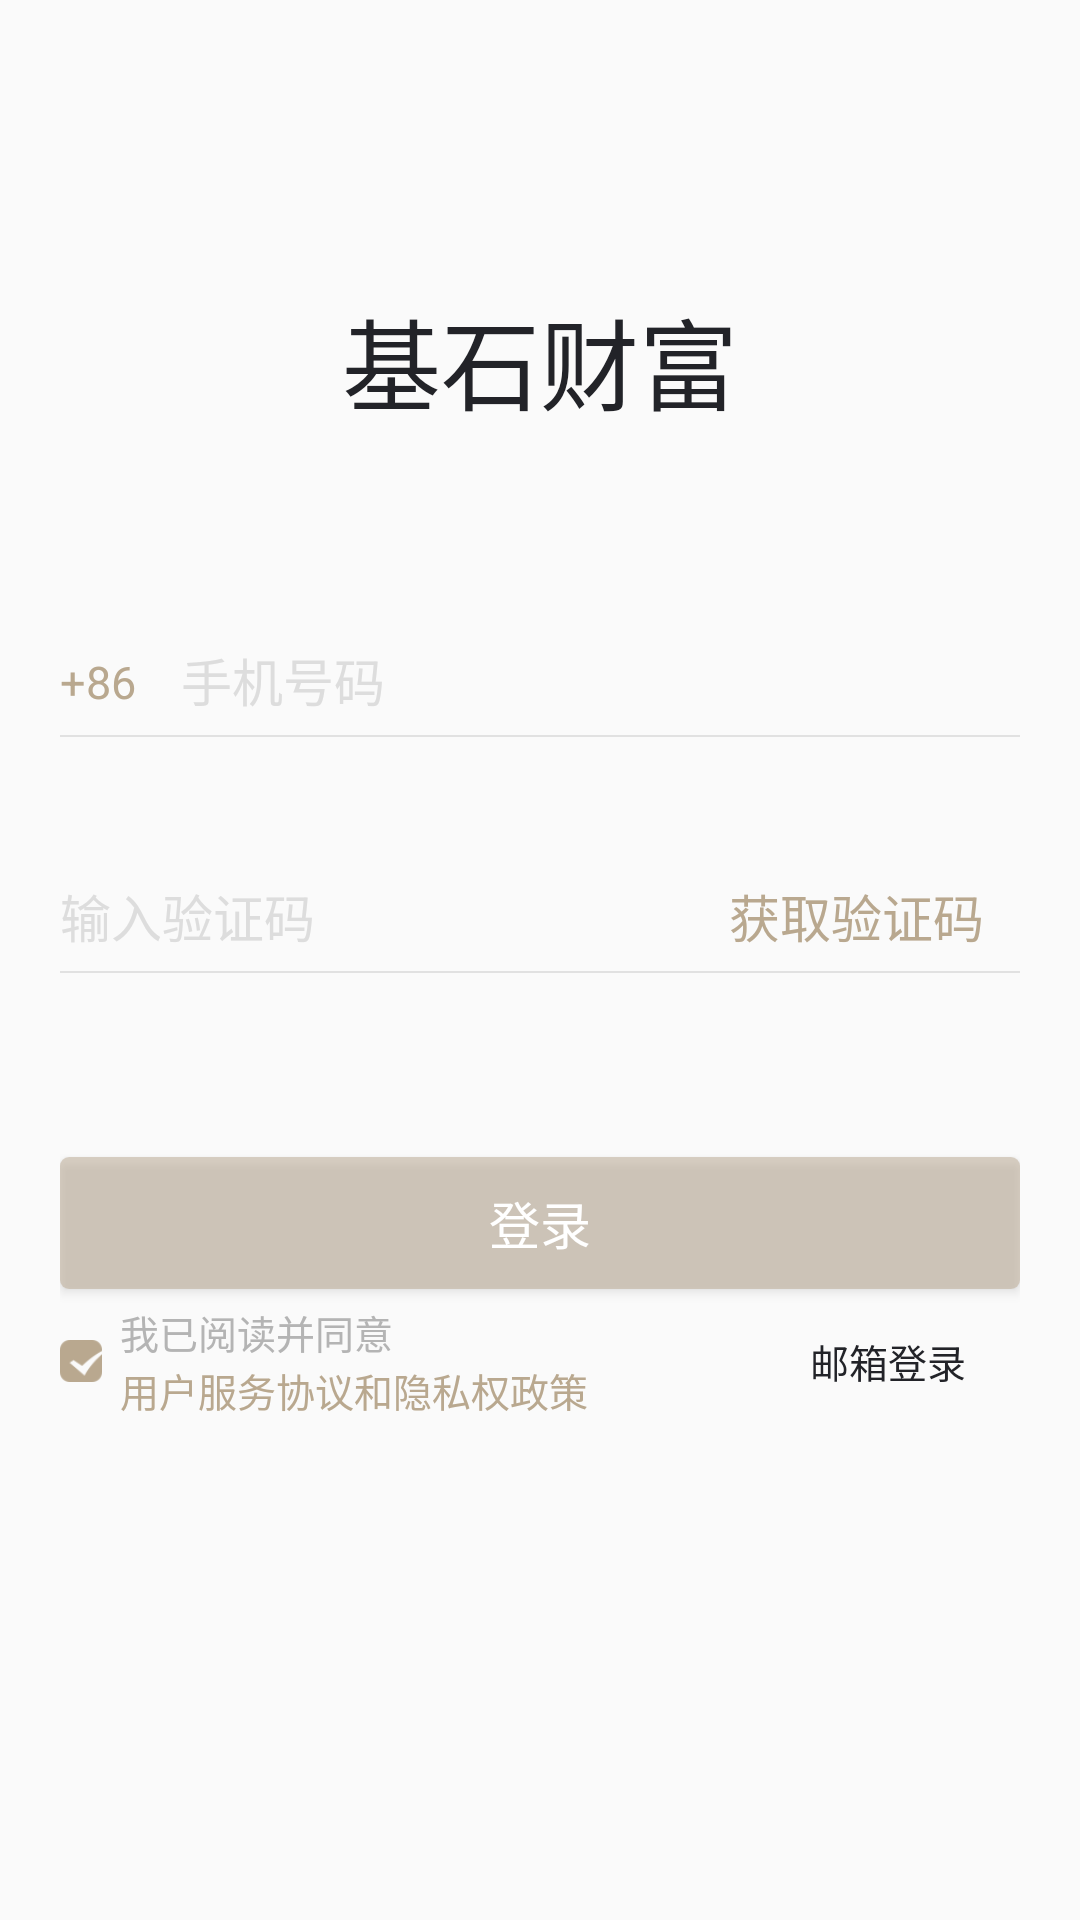

Icon click points for this 1080×1920 phone screenshot, format point (x, y):
confirm check: point (81, 1361)
